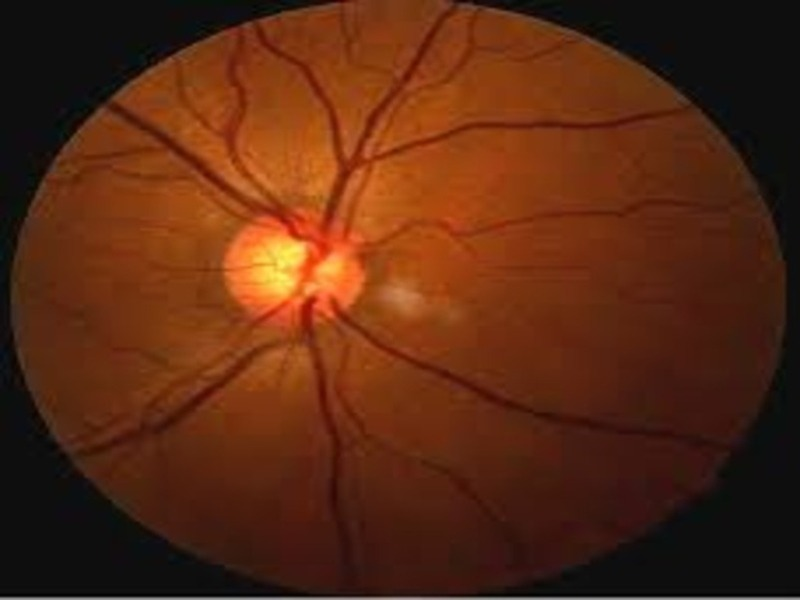Optic Cup: (249, 243, 306, 296)
Optic Disc: (222, 206, 363, 329)
